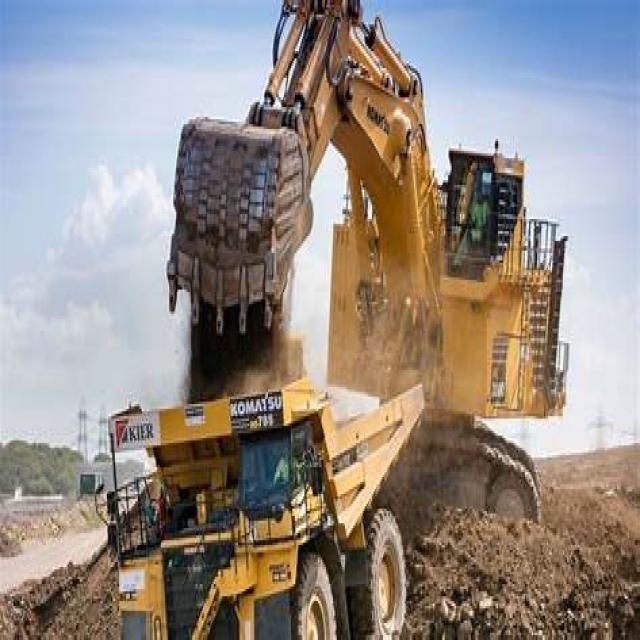dump_truck: (61, 370, 440, 637)
excavator: (169, 0, 567, 545)
